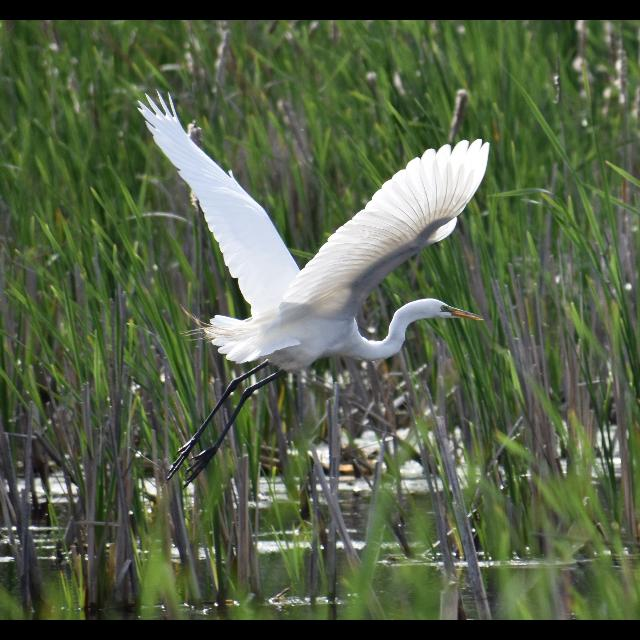egret: (140, 88, 498, 490)
